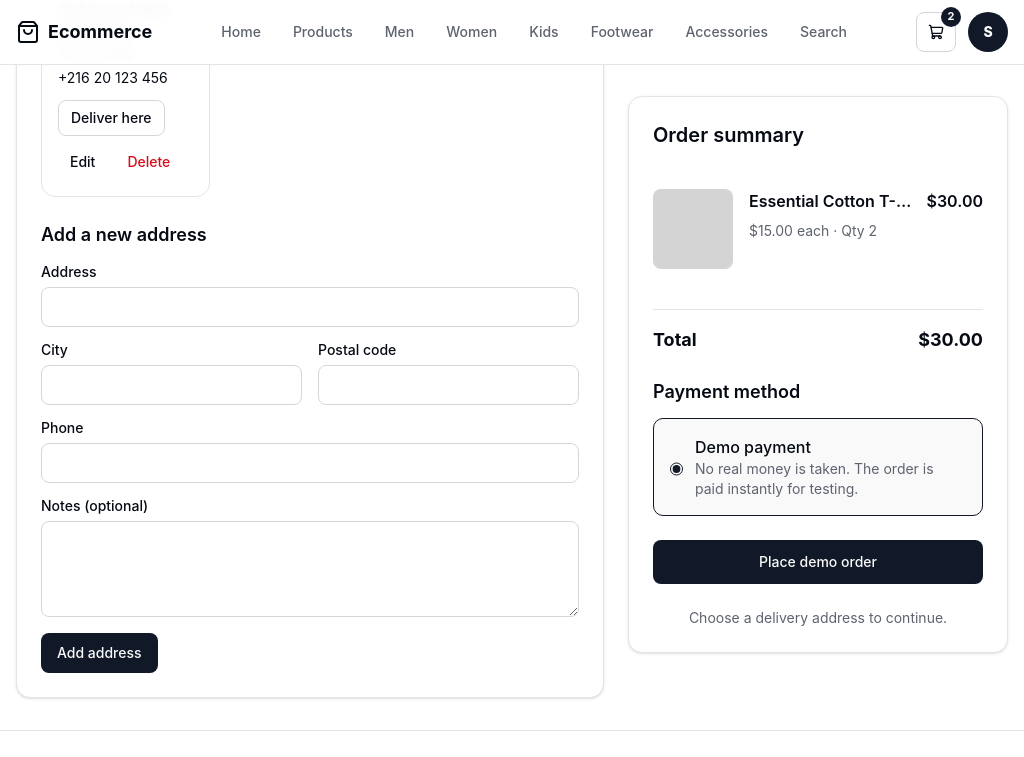
Test: checkout › requires an address, then places a demo order and shows the confirmation
The width and height of the screenshot is (1024, 757).
(page scrolled)
Expected: the text "$30.00" in the row of "Total" is shown, [918,329,983,350]
Click the button "Place demo order" at (818, 562), box [653,540,983,584]
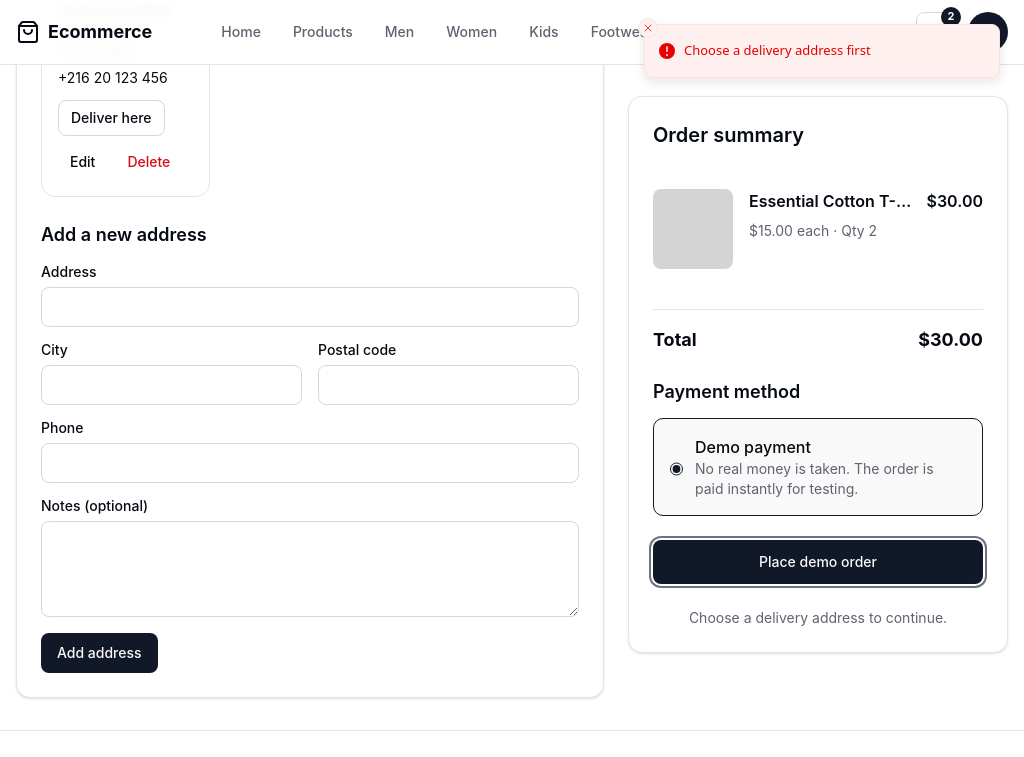
Click the button "Deliver here" at (111, 118), box [58,100,165,136]
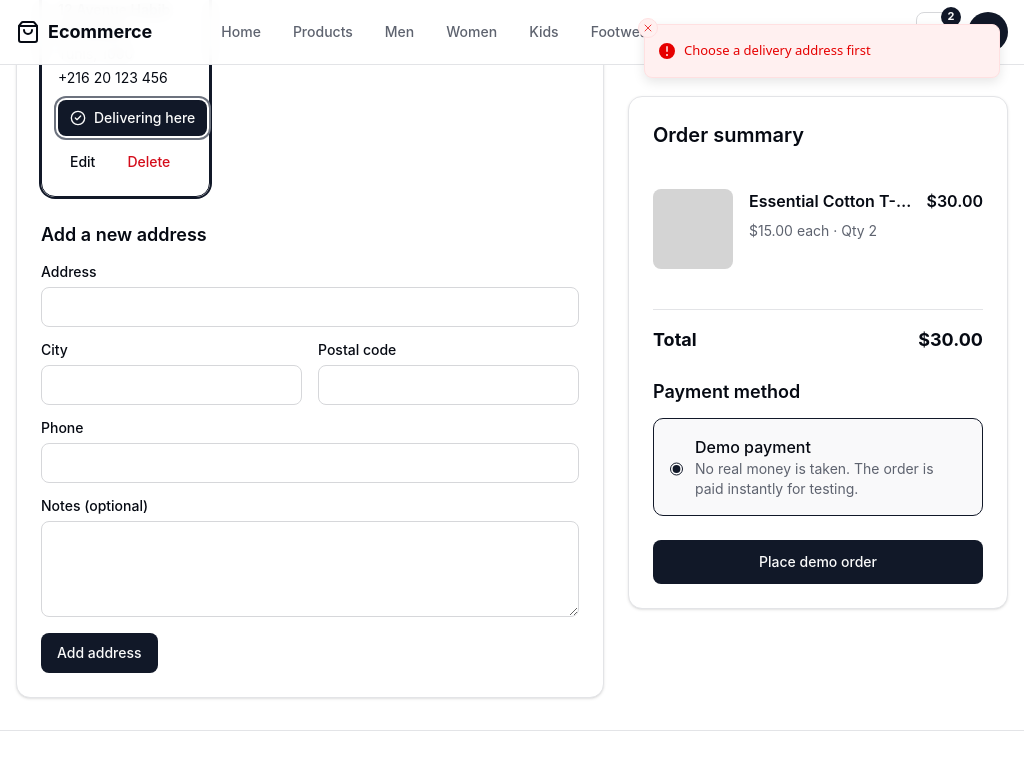
Click the button "Place demo order" at (818, 562), box [653,540,983,584]
(page scrolled)
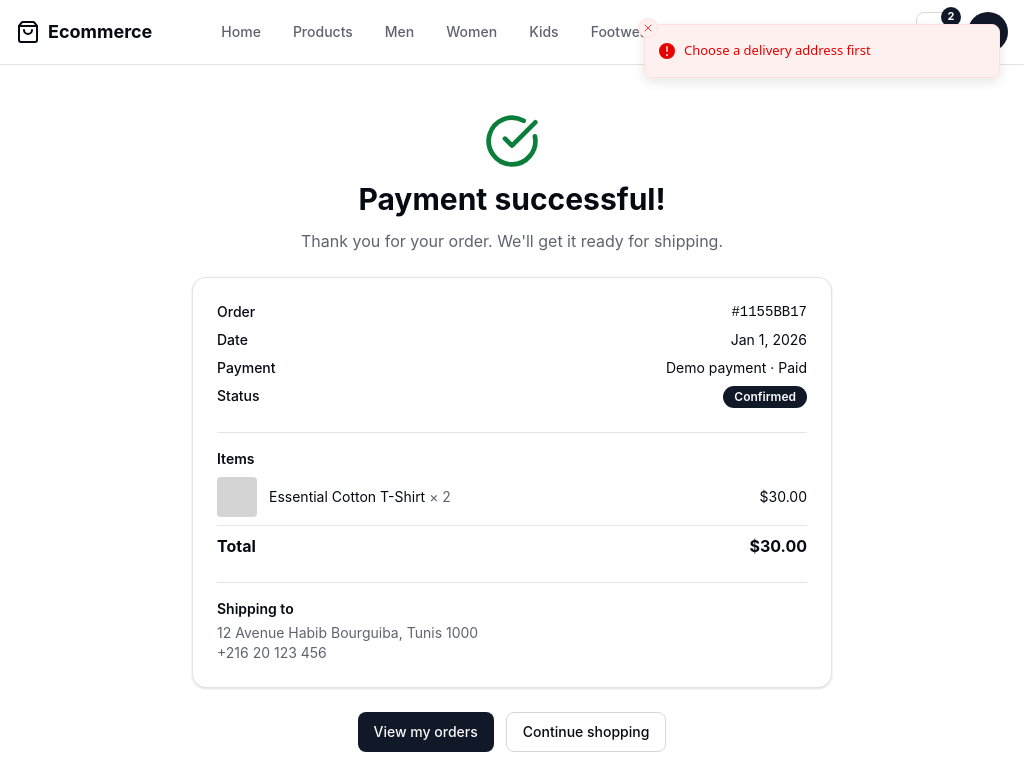
Expected: the heading "Payment successful!" is shown, [358,181,666,217]
